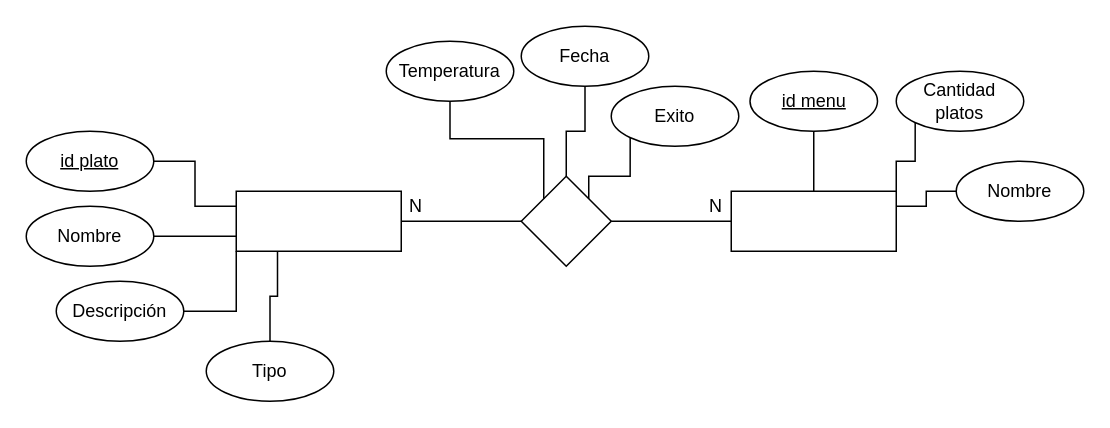
Some shapes in this 1110 by 428 pixel diagram are drawn without their labels. Each missing label, with the box of its shape:
Menú diario: (730, 190, 896, 251)
Plato: (235, 190, 401, 251)
se ofrece: (520, 175, 611, 266)
